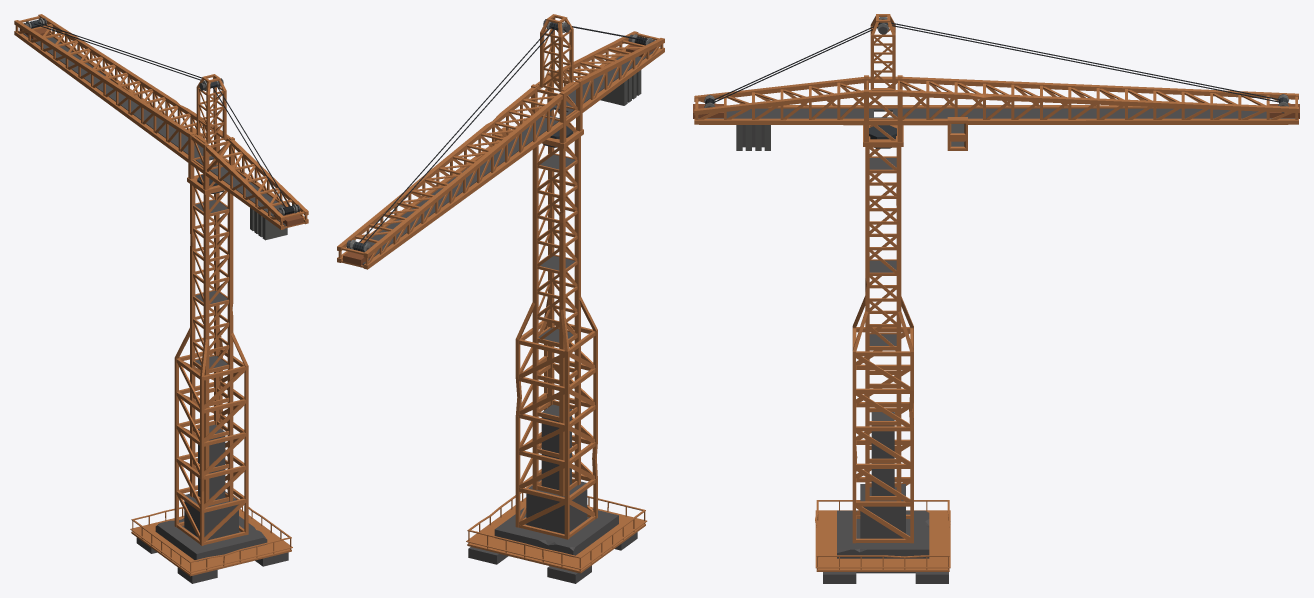
The model's file is Crane_3.fbx.
The picture shows the model from 3 angles, left to right: view 1: azimuth 30°, elevation 25°; view 2: azimuth 150°, elevation 25°; view 3: azimuth 270°, elevation 25°; orthographic projection. The views are drawn at different scales.
Visible parts, largest first — view 1: SK_Bld_Crane_01.001, SK_Bld_Crane_Top_01.001; view 2: SK_Bld_Crane_01.001, SK_Bld_Crane_Top_01.001; view 3: SK_Bld_Crane_Top_01.001, SK_Bld_Crane_01.001.
Part boxes in pixels (box(x1,y1,x2,y2)): SK_Bld_Crane_01.001: box(130, 184, 292, 583); SK_Bld_Crane_Top_01.001: box(14, 14, 308, 240); SK_Bld_Crane_01.001: box(466, 136, 647, 583); SK_Bld_Crane_Top_01.001: box(337, 14, 664, 269); SK_Bld_Crane_Top_01.001: box(693, 14, 1299, 150); SK_Bld_Crane_01.001: box(815, 147, 950, 583).
Bounding box in the file's own units: 749 × 3312 × 3366.
1 material, 1 textured.
